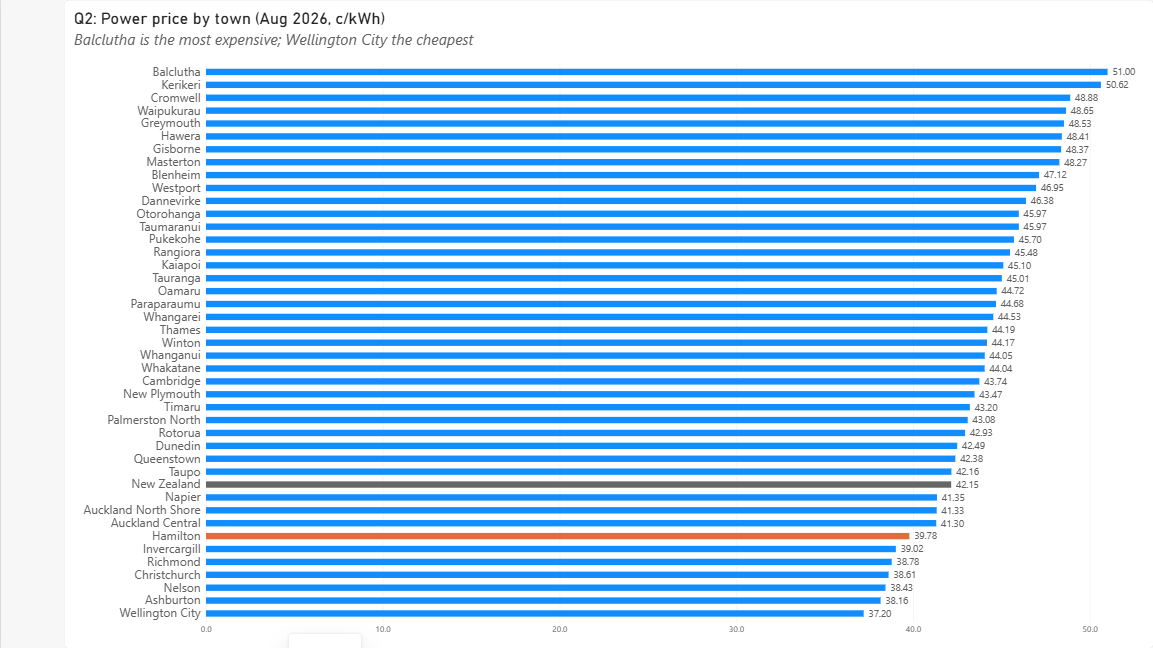

The dashboard page shown, as its layout file describes it:
{"tool":"powerbi","page":{"name":"Towns","canvas":[1920,1080],"ordinal":1},"visuals":[{"type":"clusteredBarChart","title":"Q2: Power price by town (Aug 2026, c/kWh)","fields":{"Category":["qsdep_long.Town"],"Y":["Sum(qsdep_long.Price_c_kWh)"]},"box":[105,0,1815.7,1080.8],"z":0}]}

Visuals, with their boxes in screenshot pixels (x1, y1, x2, y2), scaled from the page's 1920x1080 canvas onto the 1153x648 screenshot:
"Q2: Power price by town (Aug 2026, c/kWh)" clusteredBarChart: 63/0/1152/647
